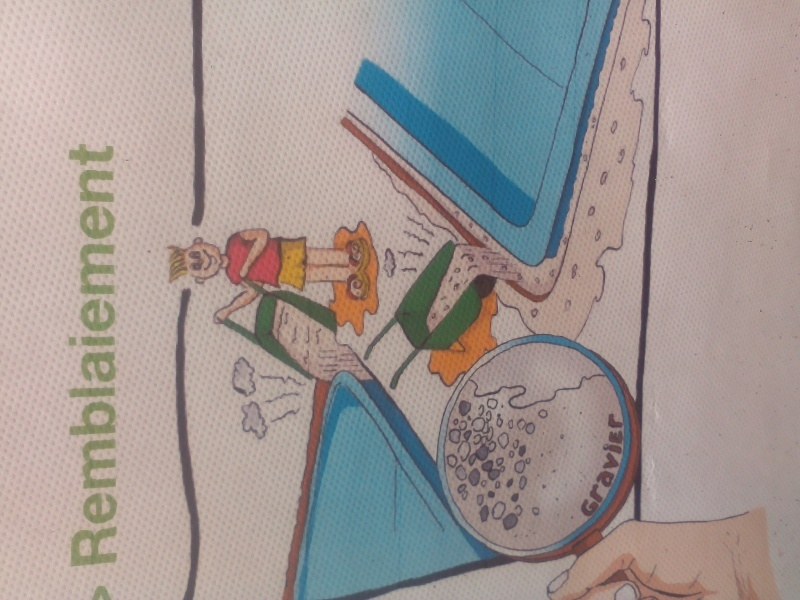text: (81, 139, 96, 567), (97, 139, 112, 567), (67, 139, 80, 567), (113, 139, 122, 567), (577, 413, 592, 524), (593, 413, 608, 524), (609, 413, 624, 524), (625, 413, 633, 524)
